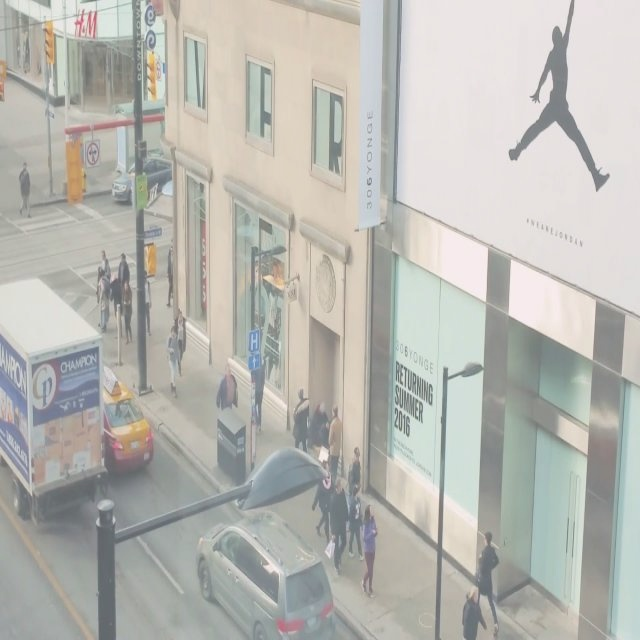pessoa: (508, 0, 614, 193), (248, 254, 284, 384), (474, 530, 500, 638), (328, 472, 350, 580), (312, 458, 336, 548), (360, 503, 378, 600), (347, 482, 365, 562), (462, 584, 488, 639), (327, 404, 343, 490), (310, 394, 334, 450), (215, 362, 239, 412), (10, 24, 32, 78), (292, 388, 309, 453), (108, 274, 124, 342), (165, 324, 179, 398), (174, 308, 188, 378), (120, 280, 134, 346), (96, 268, 110, 334), (256, 352, 266, 434), (165, 234, 175, 306), (348, 446, 362, 496), (144, 267, 153, 337), (19, 170, 31, 218), (118, 252, 130, 288), (100, 249, 112, 283), (18, 161, 31, 184)
